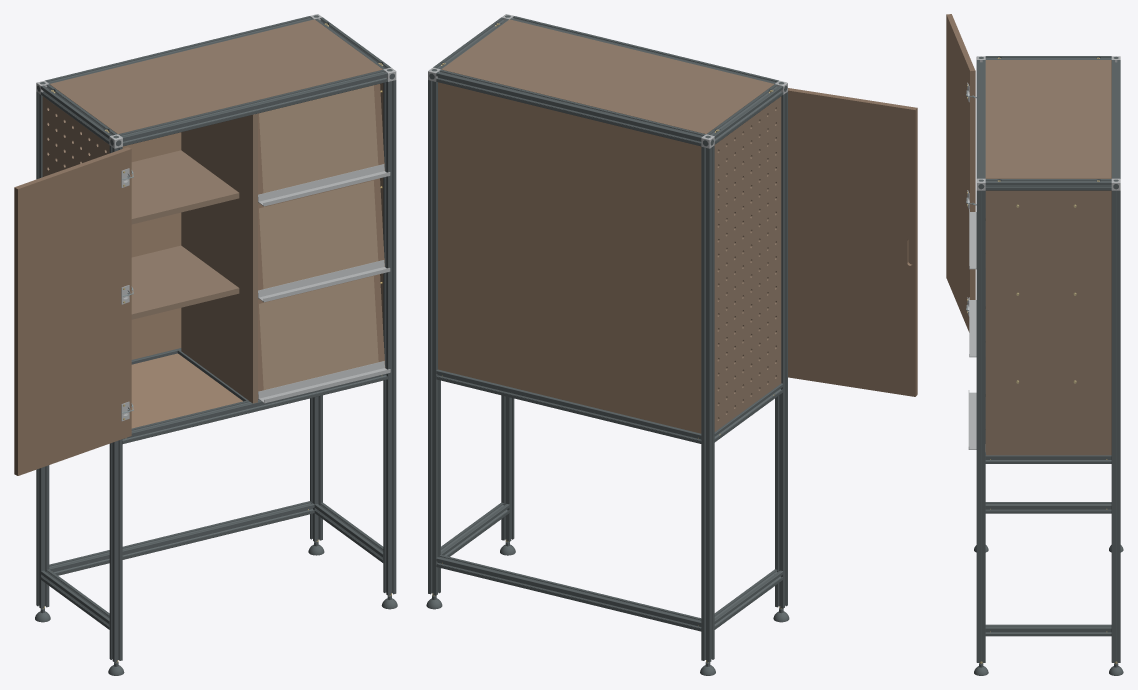
File: cabinet-170.glb
3 renders of one model, left to right at view 1: azimuth 30°, elevation 25°; view 2: azimuth 150°, elevation 25°; view 3: azimuth 270°, elevation 25°, orthographic. The views are drawn at different scales.
Parts seen in each view (by area): view 1: Left-door-face-18, Top-18, Center-18, Plywood-infill-6-1, Plywood-infill-6-2, Plywood-infill-6-3, Post-966-23, Shelf-Left-1, Shelf-Left-2, Floor-Left-8, Back-infill-8, Beam-top-front (+16 smaller); view 2: Back-infill-8, Left-door-face-18, Left-pegboard-24, Top-18, Post-4-470, Post-966-470, Post-4-23, Beam-top-rear, Beam-lower-rear, Beam-body-rear, Post-966-23, Beam-top-front (+4 smaller); view 3: Right-wall-18, Top-18, Left-door-face-18, Post-966-23, Post-966-470, Beam-lower-side-966, Beam-lower-side-4, Beam-top-side-966, Beam-top-rear, Beam-top-front, Beam-body-side-966, Display-ledge-1 (+3 smaller).
Boxes of the visible parts, bbox=[...] form: Left-door-face-18: bbox=[14, 147, 131, 475]; Top-18: bbox=[50, 19, 382, 134]; Center-18: bbox=[181, 113, 257, 403]; Plywood-infill-6-1: bbox=[259, 276, 378, 390]; Plywood-infill-6-2: bbox=[259, 180, 378, 289]; Plywood-infill-6-3: bbox=[259, 85, 378, 193]; Post-966-23: bbox=[383, 80, 396, 595]; Shelf-Left-1: bbox=[131, 245, 239, 319]; Shelf-Left-2: bbox=[131, 150, 239, 224]; Floor-Left-8: bbox=[131, 353, 242, 428]; Back-infill-8: bbox=[122, 132, 181, 359]; Beam-top-front: bbox=[118, 69, 387, 146]; Back-infill-8: bbox=[438, 82, 701, 433]; Left-door-face-18: bbox=[788, 88, 917, 396]; Left-pegboard-24: bbox=[714, 96, 781, 431]; Top-18: bbox=[441, 19, 774, 134]; Post-4-470: bbox=[701, 145, 714, 662]; Post-966-470: bbox=[428, 80, 440, 595]; Post-4-23: bbox=[775, 92, 787, 608]; Beam-top-rear: bbox=[436, 69, 705, 146]; Beam-lower-rear: bbox=[436, 555, 701, 631]; Beam-body-rear: bbox=[436, 369, 701, 443]; Post-966-23: bbox=[501, 395, 514, 541]; Beam-top-front: bbox=[510, 16, 778, 83]; Right-wall-18: bbox=[986, 190, 1111, 455]; Top-18: bbox=[985, 60, 1111, 178]; Left-door-face-18: bbox=[946, 14, 975, 332]; Post-966-23: bbox=[976, 190, 985, 662]; Post-966-470: bbox=[1111, 190, 1120, 662]; Beam-lower-side-966: bbox=[985, 624, 1111, 636]; Beam-lower-side-4: bbox=[985, 502, 1111, 513]; Beam-top-side-966: bbox=[985, 179, 1111, 190]; Beam-top-rear: bbox=[1111, 60, 1120, 178]; Beam-top-front: bbox=[976, 60, 985, 178]; Beam-body-side-966: bbox=[985, 452, 1111, 463]; Display-ledge-1: bbox=[968, 390, 976, 449].
Size of the model in its own units: 1.4 by 1.8 by 0.5867.
